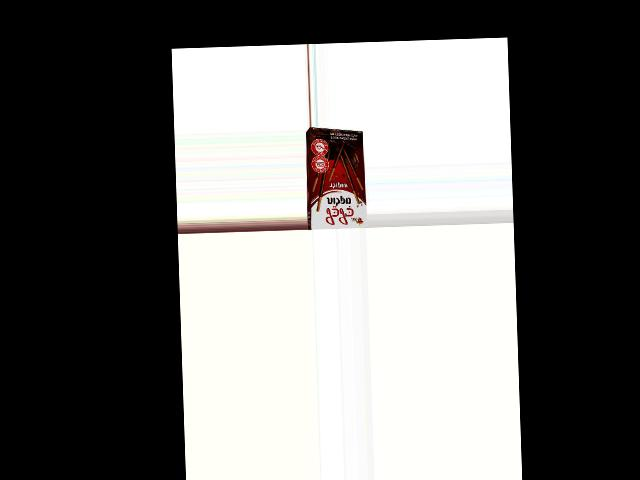chocolate: (305, 132, 367, 229)
